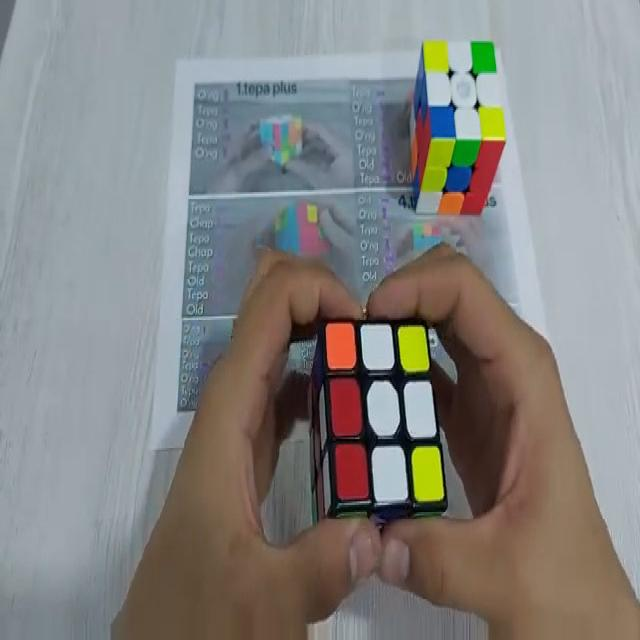Rub: (308, 322, 448, 533), (413, 40, 505, 218)
